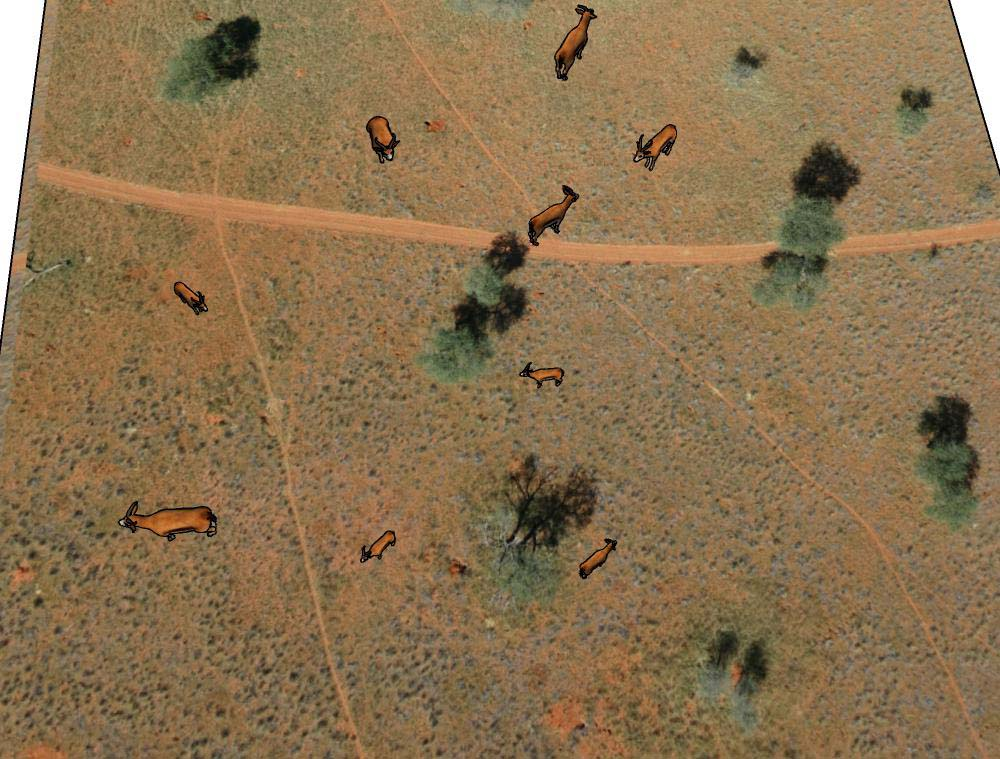springbok: (116, 495, 222, 544), (550, 5, 600, 83), (526, 183, 582, 249), (630, 122, 683, 174), (359, 112, 403, 168), (570, 534, 621, 582), (359, 523, 399, 570), (169, 278, 212, 321), (518, 357, 569, 391)
